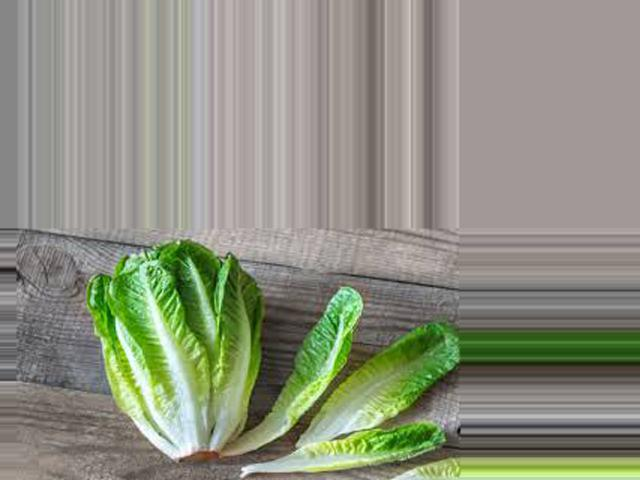lettuce: (80, 242, 270, 453)
